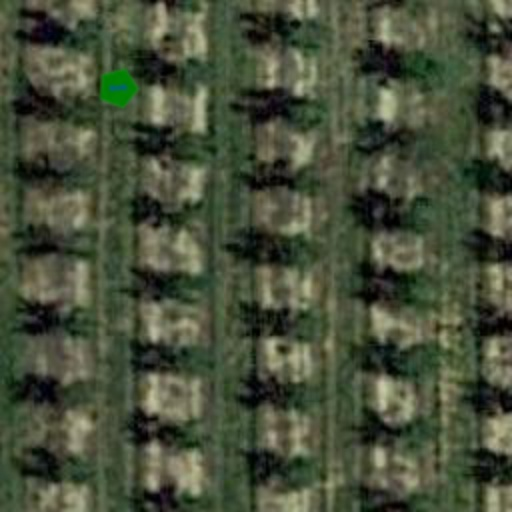pentagon: (92, 62, 144, 114)
